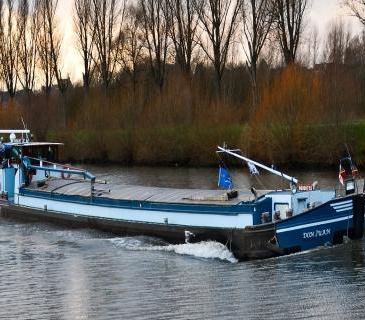Ship: (0, 105, 365, 265)
